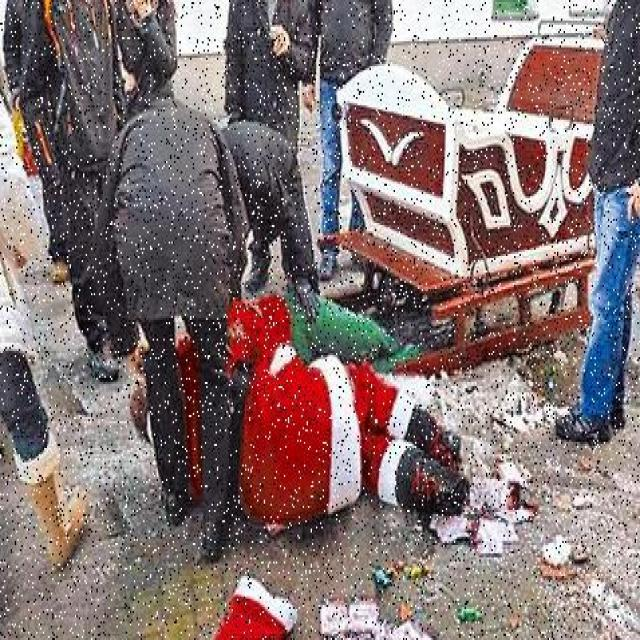fall: (123, 312, 480, 528)
